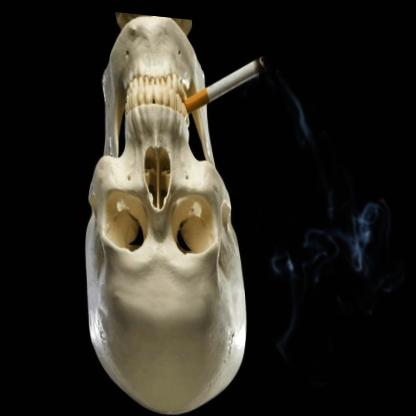smoke: (259, 65, 408, 383)
